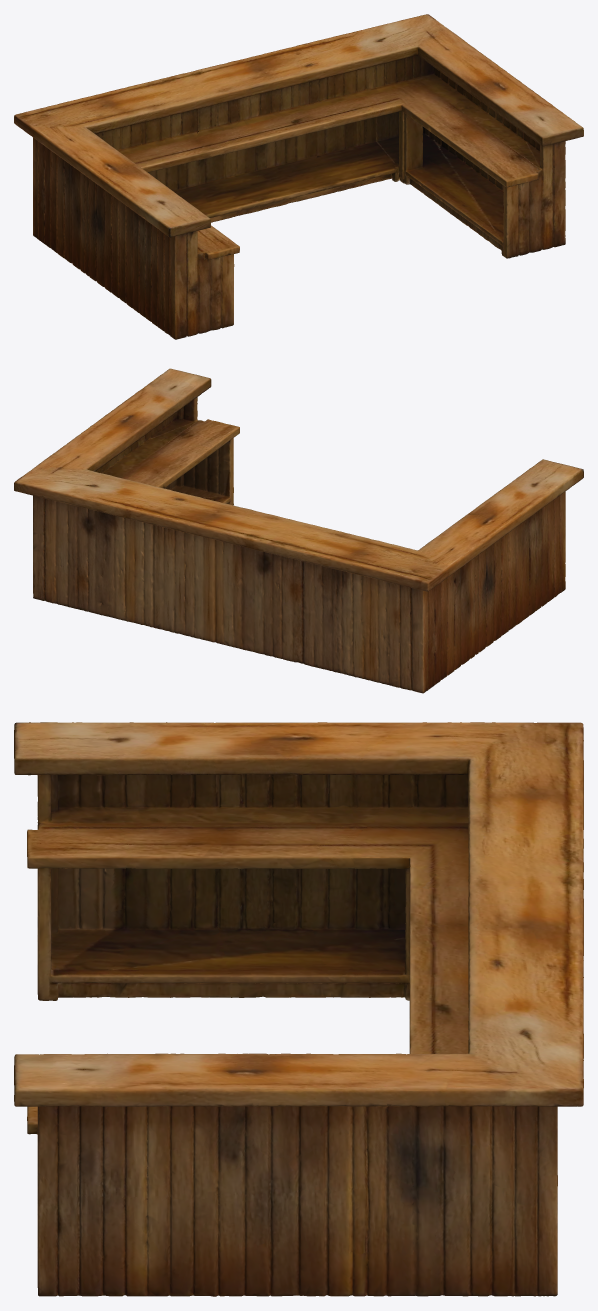
Rendered from barstand2.glb.
3 views of the same model, one above another, from view 1: azimuth 30°, elevation 25°; view 2: azimuth 150°, elevation 25°; view 3: azimuth 270°, elevation 25° (orthographic). The views are drawn at different scales.
Size of the model in its own units: 1.9 by 0.5235 by 1.24.
1 material, 1 textured.
